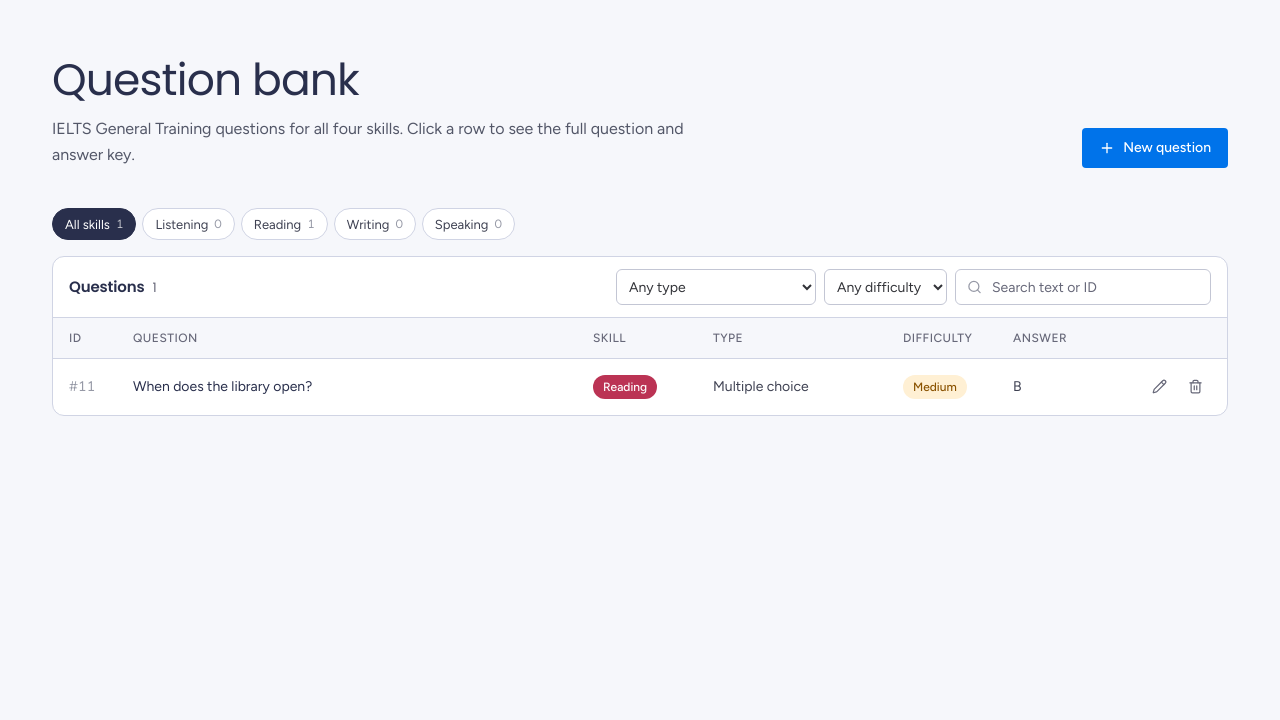
Test: QuestionAdminContainer › menampilkan pesan dari backend saat payload ditolak
Check: the text "When does the library open?" is shown, box [133,378,312,395]
Click the button "New question" at (1155, 148), box [1082,128,1228,168]
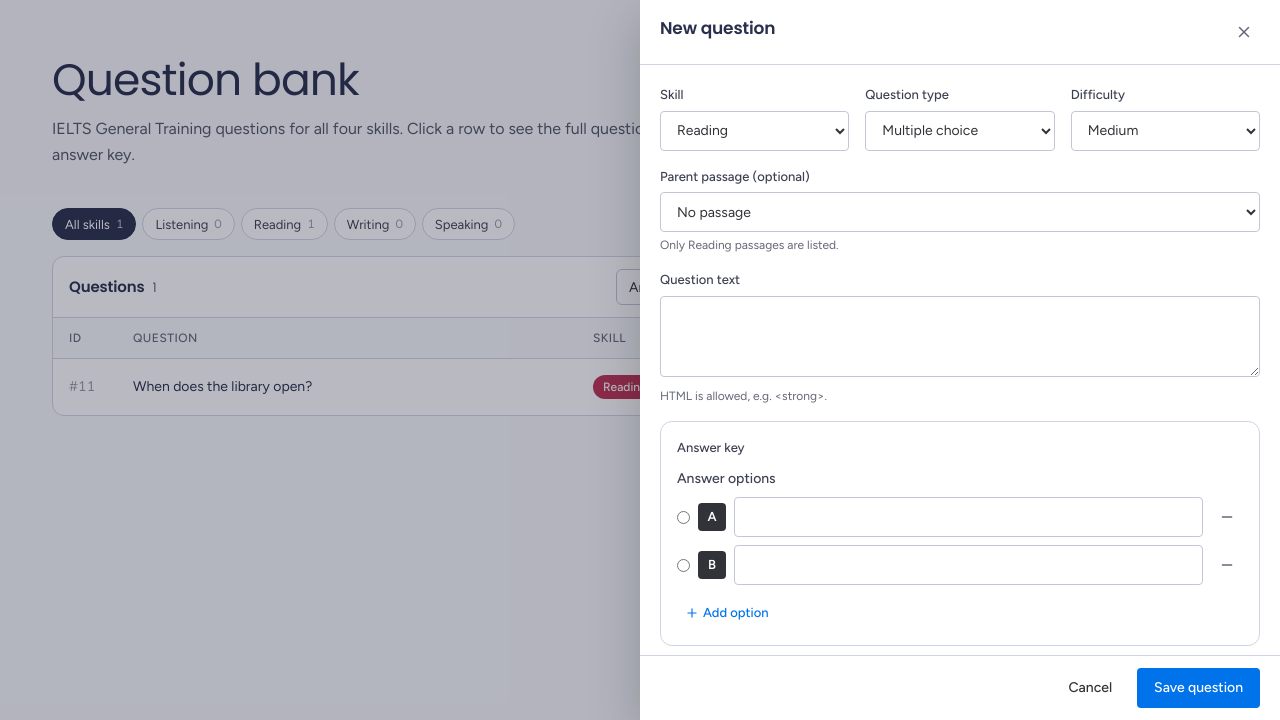
Type "Soal" into the text box labelled "Question text" at (960, 336), box [660,296,1260,376]
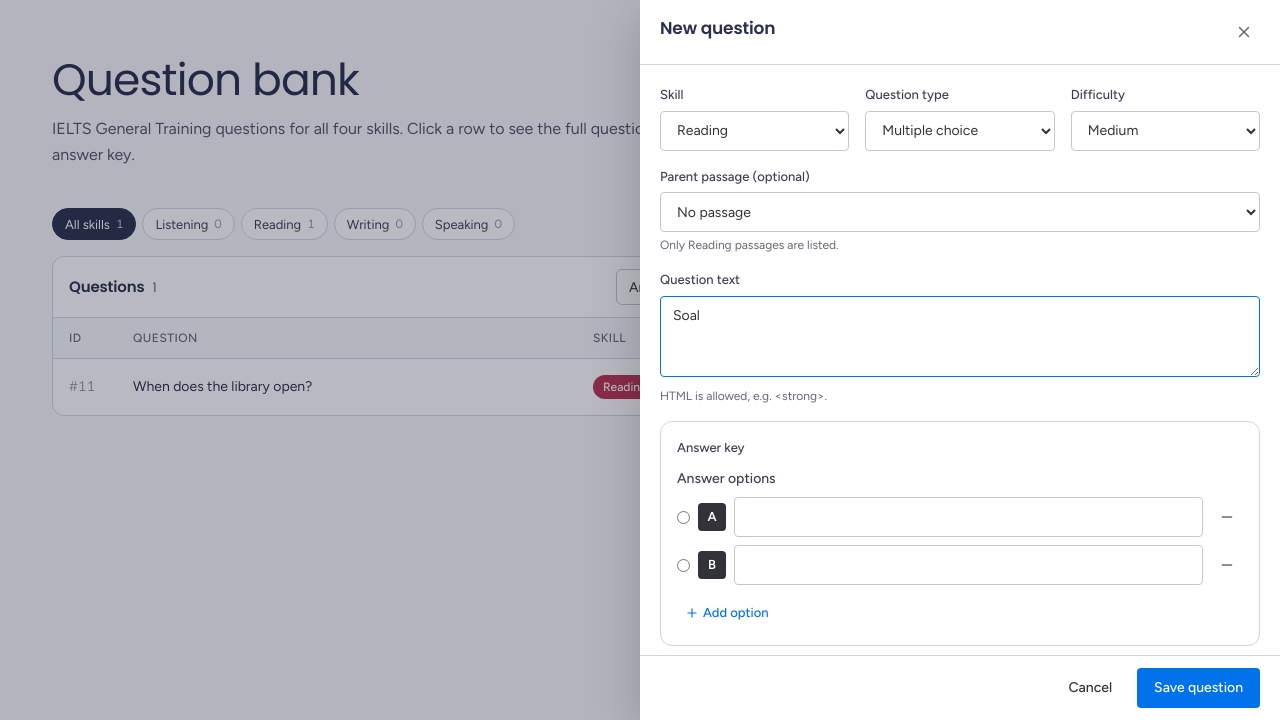
Click the button "Save question" at (1199, 688), box [1137,668,1260,708]
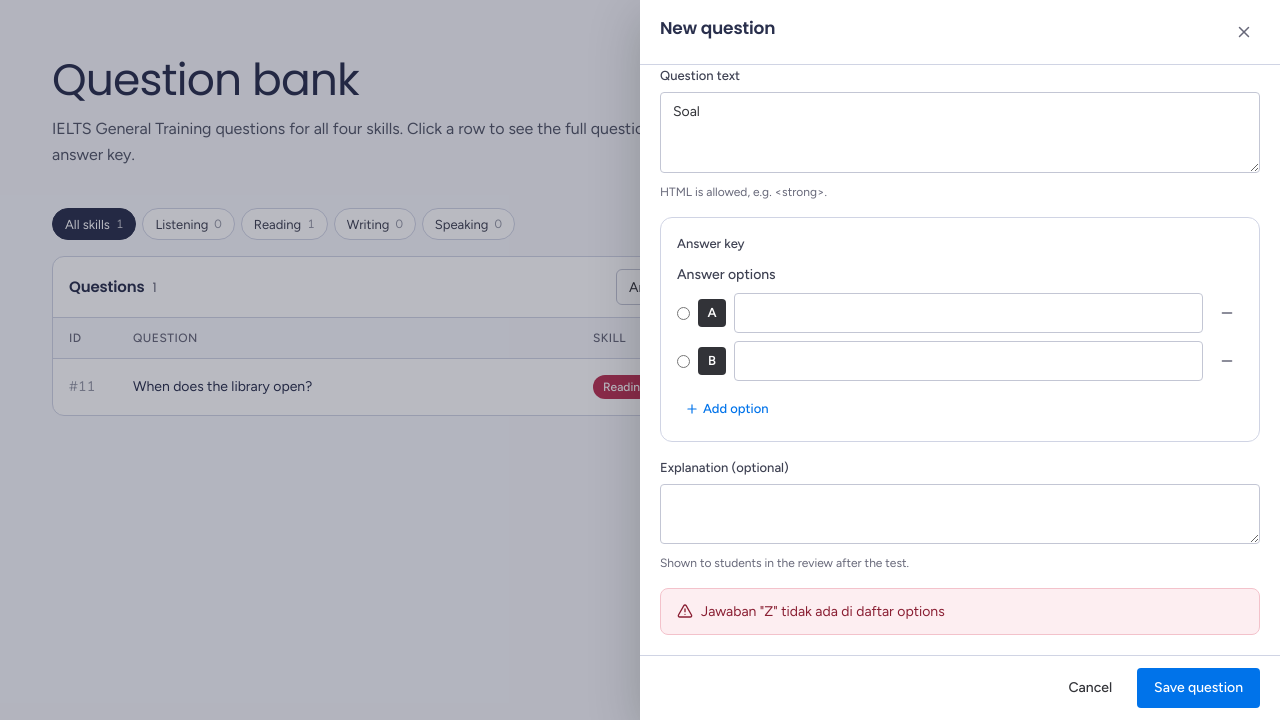
Check: the text "Jawaban \"Z\" tidak ada di daftar options" is shown, box [701,600,945,622]
